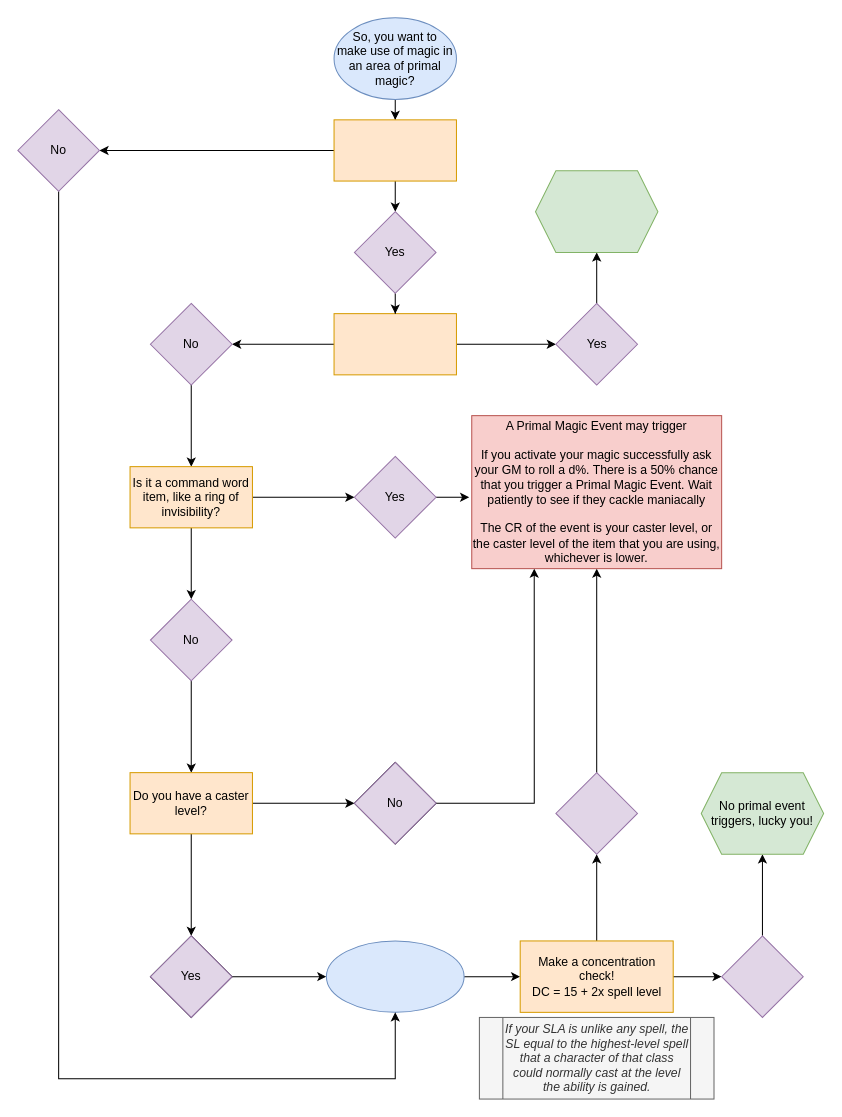
The diagram is 842 pixels wide and 1117 high, and some of its shapes have lost their labels. Each missing label, with the centre of its shape:
"Failure!" belongs at point 596,813.
"Great! You can focus your magic to avoid a primal event" belongs at point 394,976.
"Is it a 'use activated' item like a potion, or continuous like a belt of dex?" belongs at point 394,344.
"Is the source of the magic an item?" belongs at point 394,150.
"No chance of primal magic shenanigans!" belongs at point 596,211.
"Success!" belongs at point 762,976.
